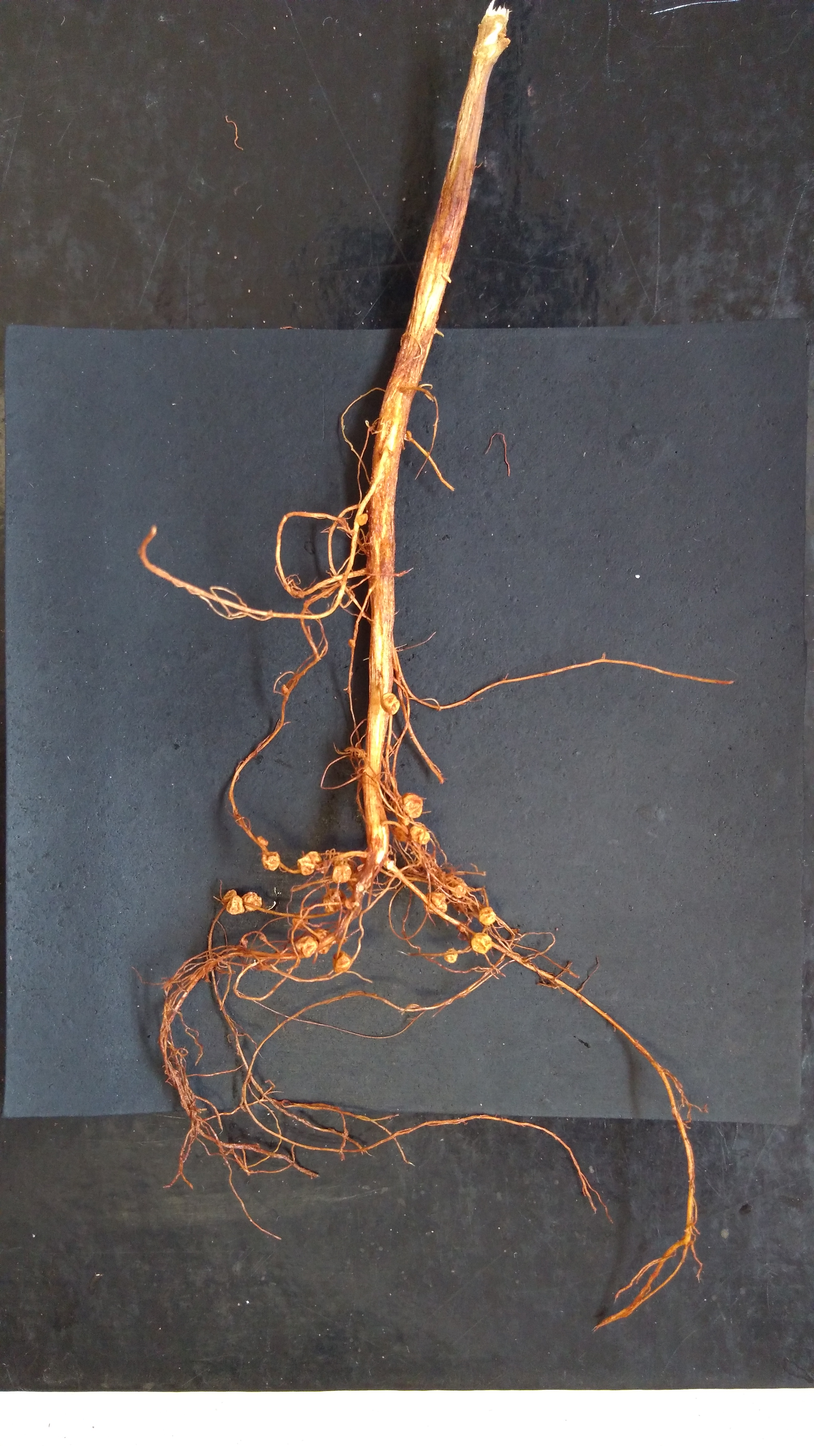nodule: (400, 789, 426, 819), (423, 888, 449, 918), (292, 934, 318, 962), (469, 930, 495, 957), (239, 890, 264, 918), (331, 862, 356, 888), (379, 691, 402, 719), (310, 930, 335, 955), (321, 888, 346, 913), (406, 823, 432, 847), (474, 904, 500, 928), (331, 950, 355, 975), (261, 850, 283, 873), (296, 856, 316, 878), (225, 894, 245, 915), (304, 849, 323, 866), (220, 887, 239, 904), (290, 915, 309, 931), (393, 824, 409, 843), (443, 947, 459, 965), (451, 883, 466, 899), (355, 513, 370, 527), (255, 833, 269, 848), (405, 428, 413, 440)
